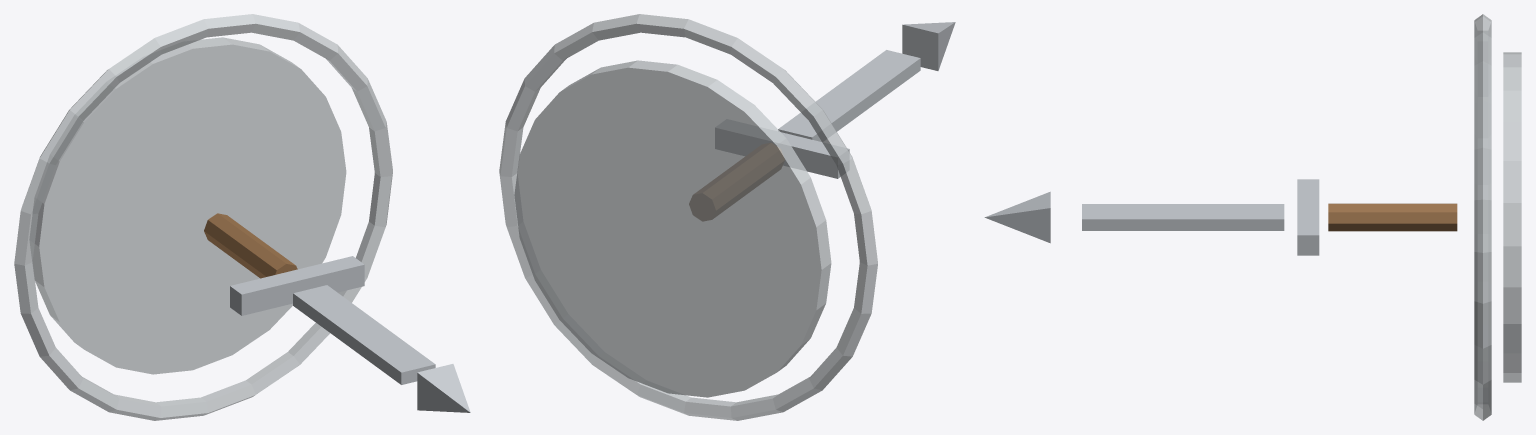
The model's file is weapon_pickup_dagger_common.glb.
3 views of the same model, side by side, from view 1: azimuth 30°, elevation 25°; view 2: azimuth 150°, elevation 25°; view 3: azimuth 270°, elevation 25° (orthographic). The views are drawn at different scales.
Parts seen in each view (by area): view 1: rarity_base_disc, rarity_orbit_ring, blade, guard, grip, tip; view 2: rarity_base_disc, rarity_orbit_ring, blade, guard, grip, tip; view 3: rarity_orbit_ring, rarity_base_disc, blade, grip, tip, guard.
Boxes of the visible parts, left/top/right/bottom form: rarity_base_disc: left=30, top=37, right=346, bottom=374; rarity_orbit_ring: left=14, top=14, right=392, bottom=420; blade: left=293, top=285, right=435, bottom=384; guard: left=230, top=256, right=364, bottom=315; grip: left=204, top=213, right=297, bottom=278; tip: left=417, top=364, right=470, bottom=412; rarity_base_disc: left=514, top=60, right=831, bottom=397; rarity_orbit_ring: left=499, top=14, right=877, bottom=420; blade: left=778, top=50, right=920, bottom=141; guard: left=715, top=119, right=849, bottom=178; grip: left=689, top=143, right=784, bottom=220; tip: left=902, top=22, right=955, bottom=70; rarity_orbit_ring: left=1474, top=14, right=1491, bottom=420; rarity_base_disc: left=1503, top=52, right=1521, bottom=382; blade: left=1082, top=204, right=1284, bottom=230; grip: left=1328, top=203, right=1457, bottom=231; tip: left=984, top=191, right=1050, bottom=243; guard: left=1297, top=179, right=1319, bottom=255.
Bounding box in the file's own units: 1.11 × 1.11 × 1.46.
